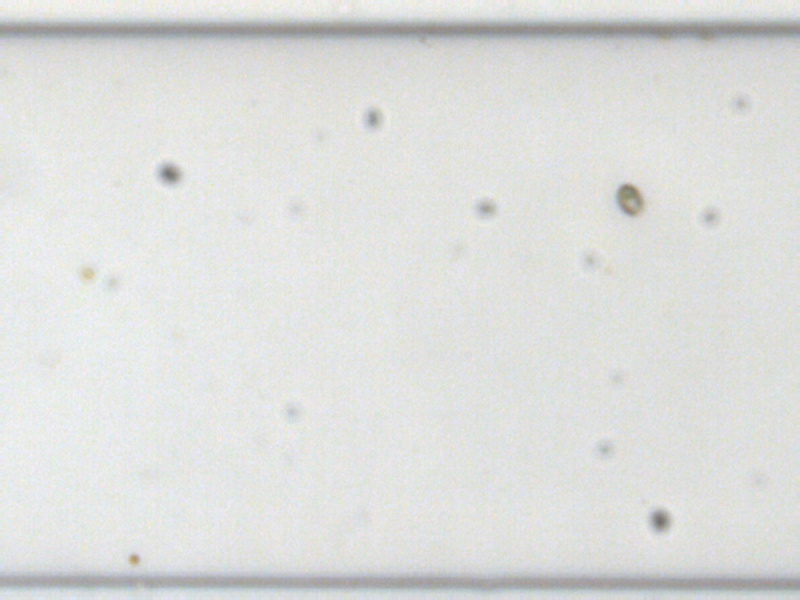Chlorella: (77, 264, 95, 281), (127, 550, 142, 566)
Dunaliella salina: (612, 179, 645, 219)
